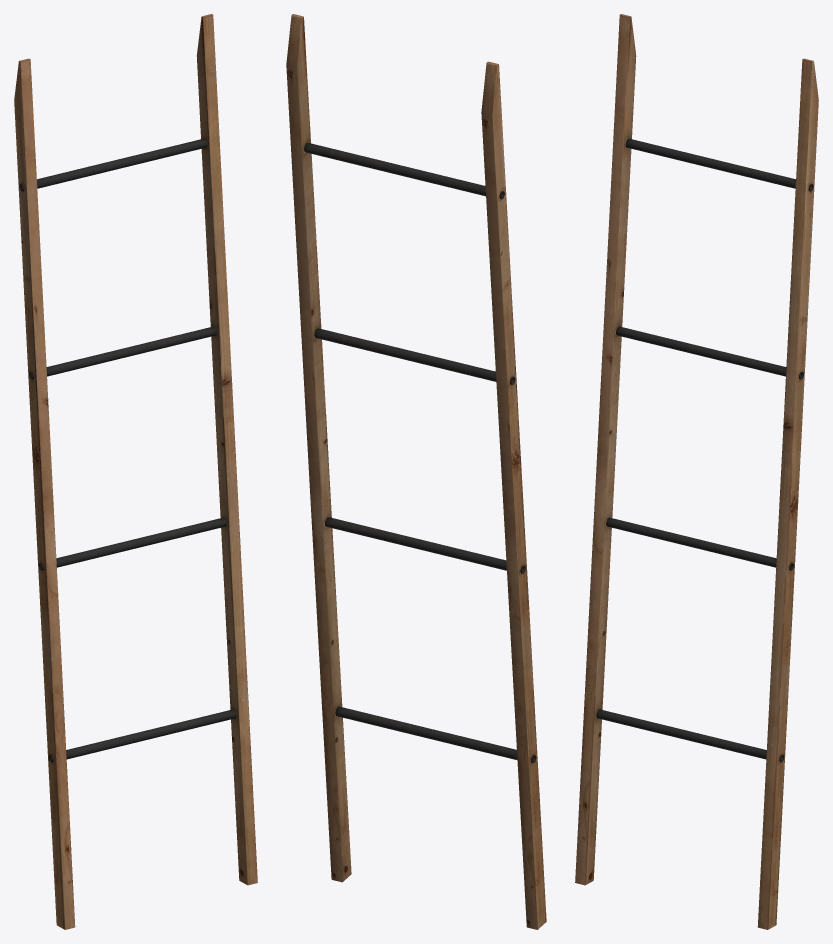
Rendered from B07HSGP5PS.glb.
The picture shows the model from 3 angles, left to right: view 1: azimuth 30°, elevation 25°; view 2: azimuth 150°, elevation 25°; view 3: azimuth 330°, elevation 25°; orthographic projection. The views are drawn at different scales.
Parts seen in each view (by area): view 1: RootNode; view 2: RootNode; view 3: RootNode.
Part boxes in pixels (bbox=[...]): RootNode: bbox=[14, 14, 257, 929]; RootNode: bbox=[286, 14, 546, 929]; RootNode: bbox=[575, 14, 818, 929].
Bounding box in the file's own units: 0.4416 × 1.81 × 0.1997.
1 material, 1 textured.
